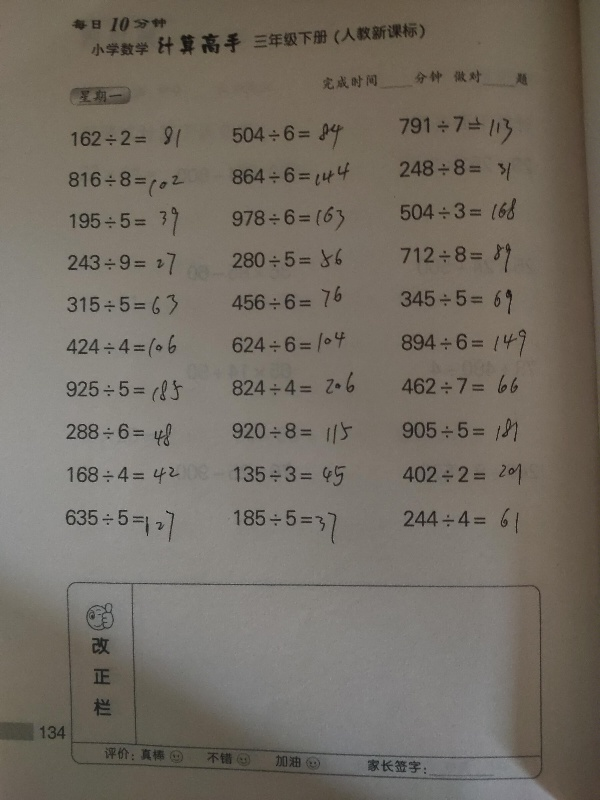equation: (228, 497, 365, 559), (48, 501, 201, 547), (54, 409, 202, 455), (57, 155, 203, 201), (217, 189, 372, 231), (226, 236, 377, 276), (395, 449, 545, 489), (230, 450, 363, 493), (391, 105, 523, 148), (391, 237, 522, 280), (211, 108, 361, 144), (224, 320, 365, 358), (57, 205, 204, 241), (391, 504, 540, 539), (58, 456, 206, 491), (57, 287, 195, 324), (390, 193, 528, 228), (62, 373, 209, 405), (66, 252, 200, 287), (394, 369, 535, 401), (221, 411, 360, 443), (228, 150, 355, 185), (228, 368, 365, 400), (390, 418, 535, 447), (400, 327, 534, 358), (58, 336, 206, 362), (392, 158, 521, 185), (394, 287, 518, 315), (230, 287, 363, 309), (67, 126, 195, 148)
